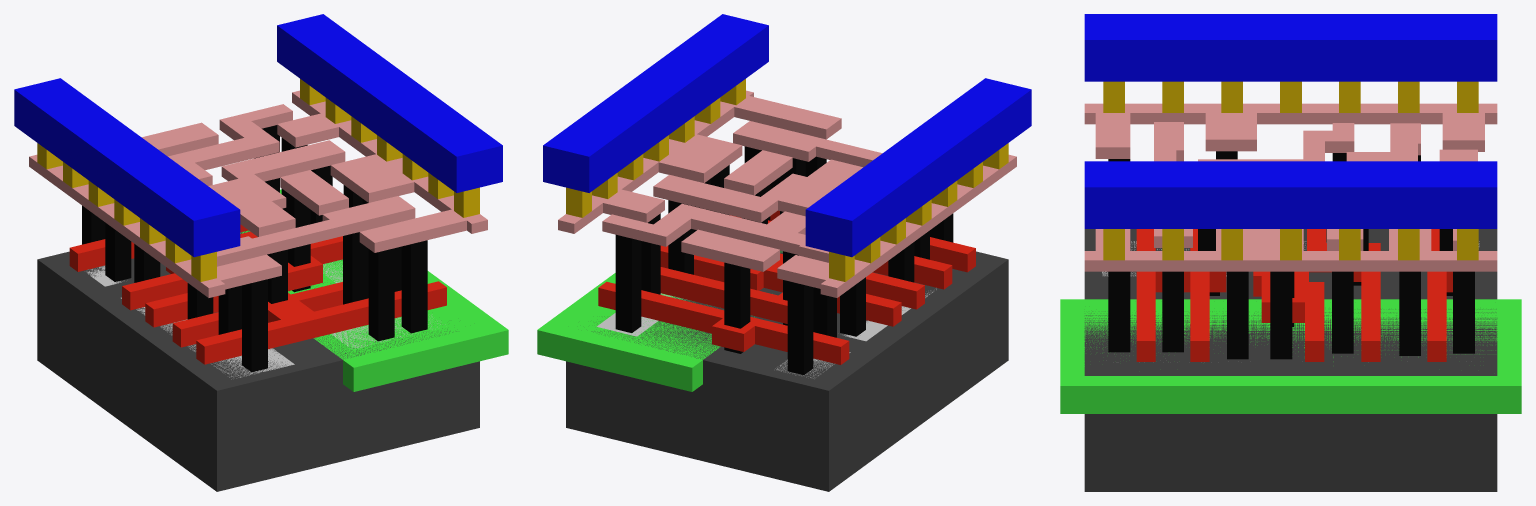
The model's file is sky130_fd_sc_hd__and2b_2.obj.
The picture shows the model from 3 angles, left to right: view 1: azimuth 30°, elevation 25°; view 2: azimuth 150°, elevation 25°; view 3: azimuth 270°, elevation 25°; orthographic projection. The views are drawn at different scales.
Visible parts, largest first — view 1: subs, metal1, li, licon, poly, nwell, mcon, diff, tap; view 2: subs, metal1, li, poly, licon, nwell, mcon, diff; view 3: metal1, subs, nwell, li, licon, poly, mcon.
Boxes of the visible parts, x1,y1,x2,y2 form: subs: [37, 230, 479, 491]; metal1: [14, 14, 502, 257]; li: [29, 90, 487, 297]; licon: [82, 125, 427, 372]; poly: [69, 224, 446, 364]; nwell: [240, 189, 508, 391]; mcon: [37, 79, 479, 281]; diff: [86, 265, 294, 379]; tap: [323, 260, 445, 348]; subs: [566, 250, 1008, 491]; metal1: [543, 14, 1031, 257]; li: [558, 90, 1016, 297]; poly: [598, 210, 975, 364]; licon: [615, 146, 953, 374]; nwell: [537, 251, 782, 391]; mcon: [566, 79, 1008, 281]; diff: [775, 288, 936, 378]; metal1: [1084, 14, 1497, 228]; subs: [1084, 229, 1497, 491]; nwell: [1060, 299, 1521, 413]; li: [1084, 103, 1497, 271]; licon: [1108, 151, 1474, 359]; poly: [1136, 229, 1452, 361]; mcon: [1103, 81, 1478, 260].
Size of the model in its own units: 3.2 by 2.74 by 3.6.
